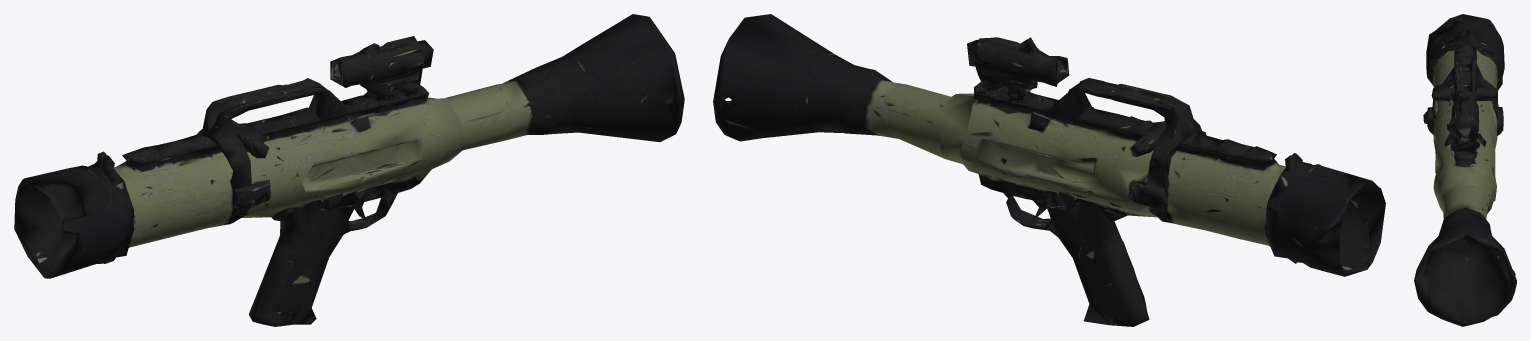
File: gun_rocket_lo.glb
The picture shows the model from 3 angles, left to right: view 1: azimuth 30°, elevation 25°; view 2: azimuth 150°, elevation 25°; view 3: azimuth 270°, elevation 25°; orthographic projection. The views are drawn at different scales.
Bounding box in the file's own units: 1.9 × 0.771 × 0.3536.
Materials: 1 (1 with a texture image).
